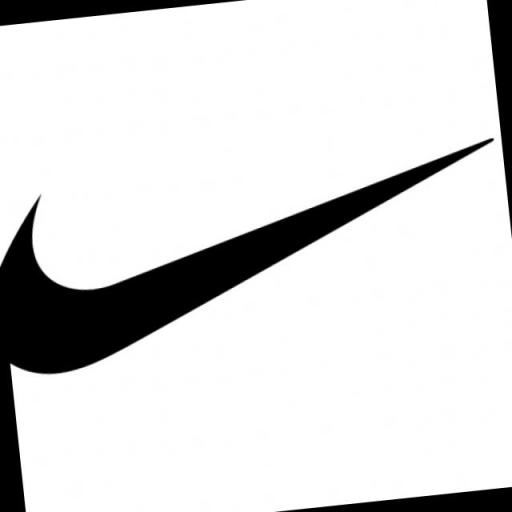Nike: (0, 130, 512, 378)
